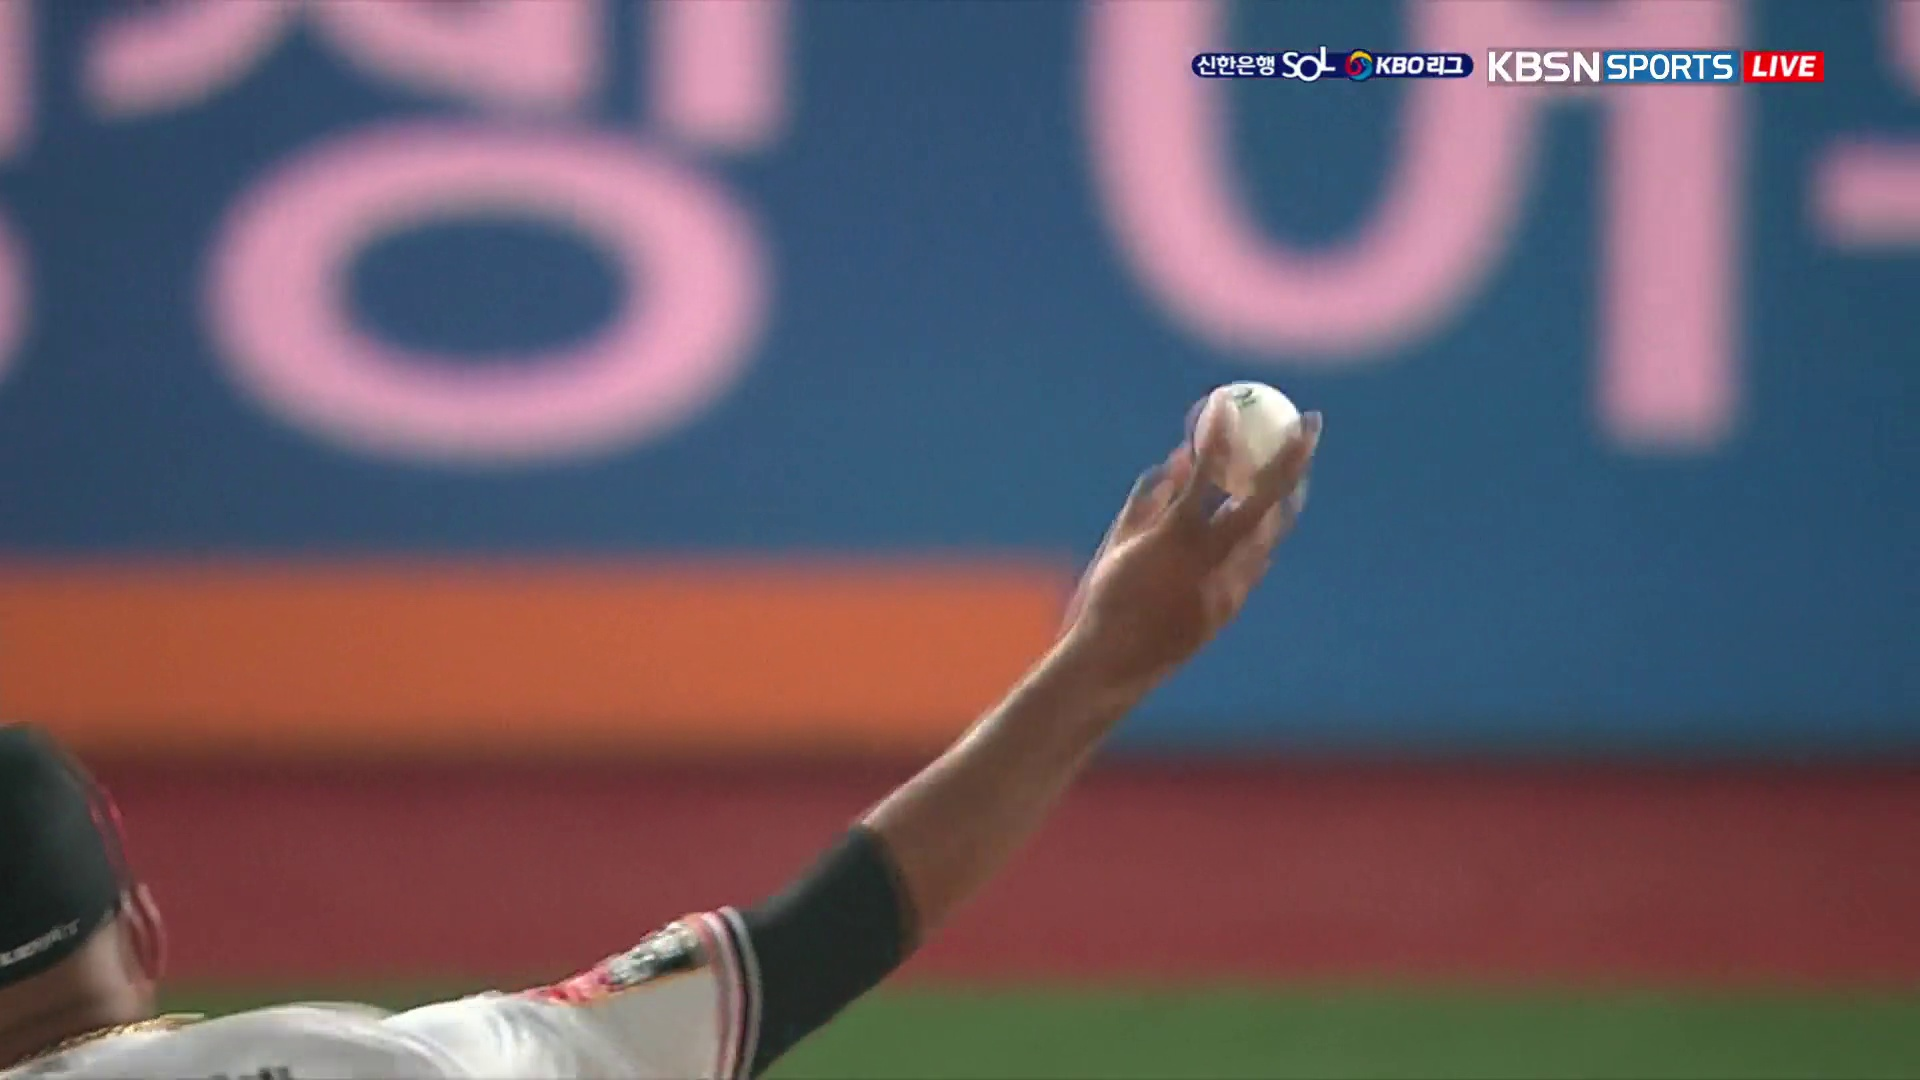zoomin_hand: (749, 371, 1337, 1033)
